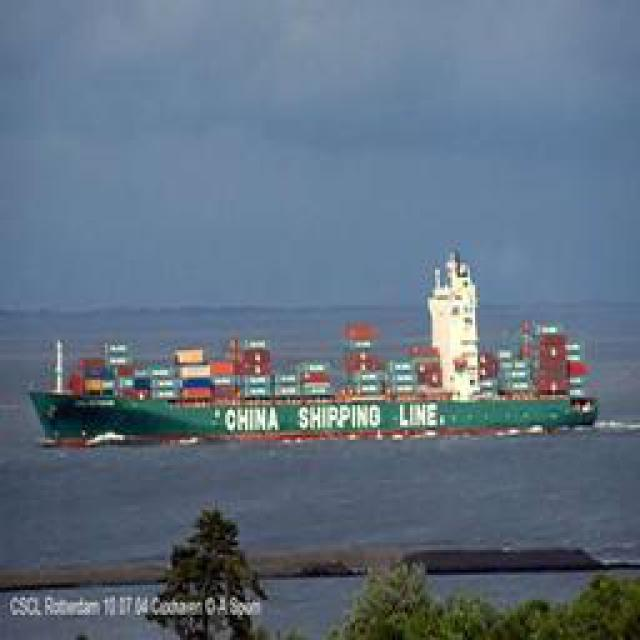Ship: (21, 316, 601, 444)
